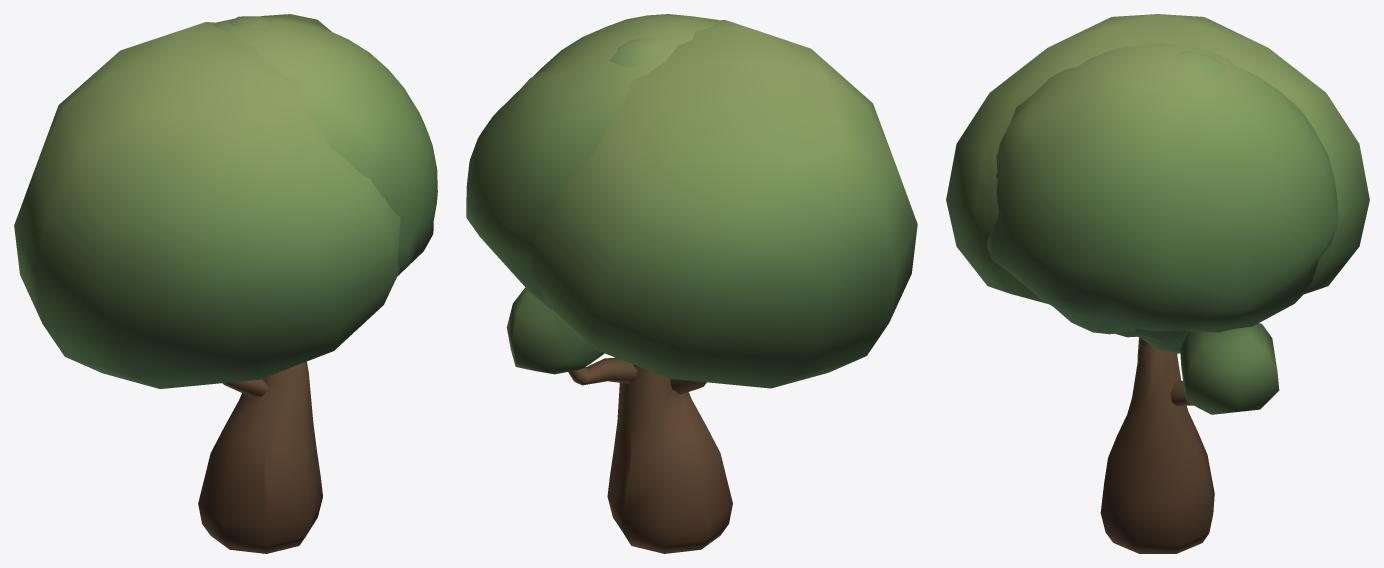
The model's file is tree_round_small.glb.
The picture shows the model from 3 angles, left to right: view 1: azimuth 30°, elevation 25°; view 2: azimuth 150°, elevation 25°; view 3: azimuth 270°, elevation 25°; orthographic projection. The views are drawn at different scales.
Parts seen in each view (by area): view 1: v0, v1; view 2: v0, v1, v2; view 3: v1, v0, v2.
Boxes of the visible parts, bbox=[...] form: v0: bbox=[14, 22, 400, 553]; v1: bbox=[213, 14, 437, 276]; v0: bbox=[506, 20, 917, 553]; v1: bbox=[466, 14, 718, 309]; v2: bbox=[609, 37, 661, 67]; v1: bbox=[987, 43, 1338, 347]; v0: bbox=[946, 14, 1369, 553]; v2: bbox=[1115, 51, 1224, 360].
Size of what is drawn, in the model's own units: 4.13 by 5.12 by 4.
